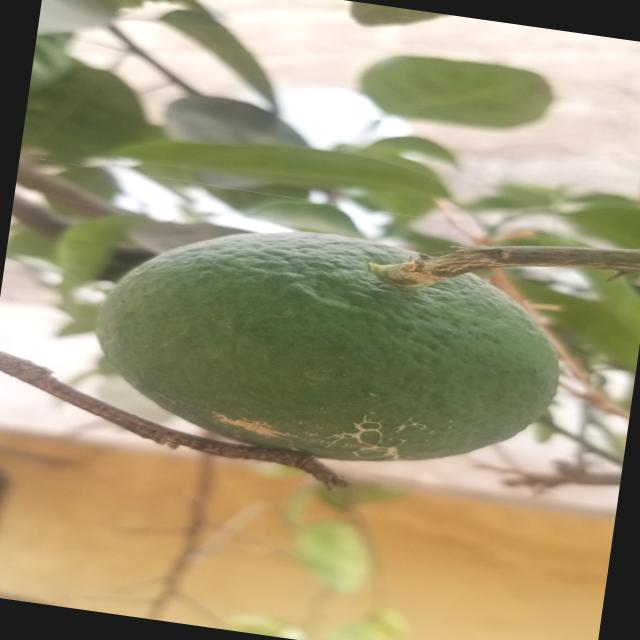Unripe: (49, 188, 596, 506)
